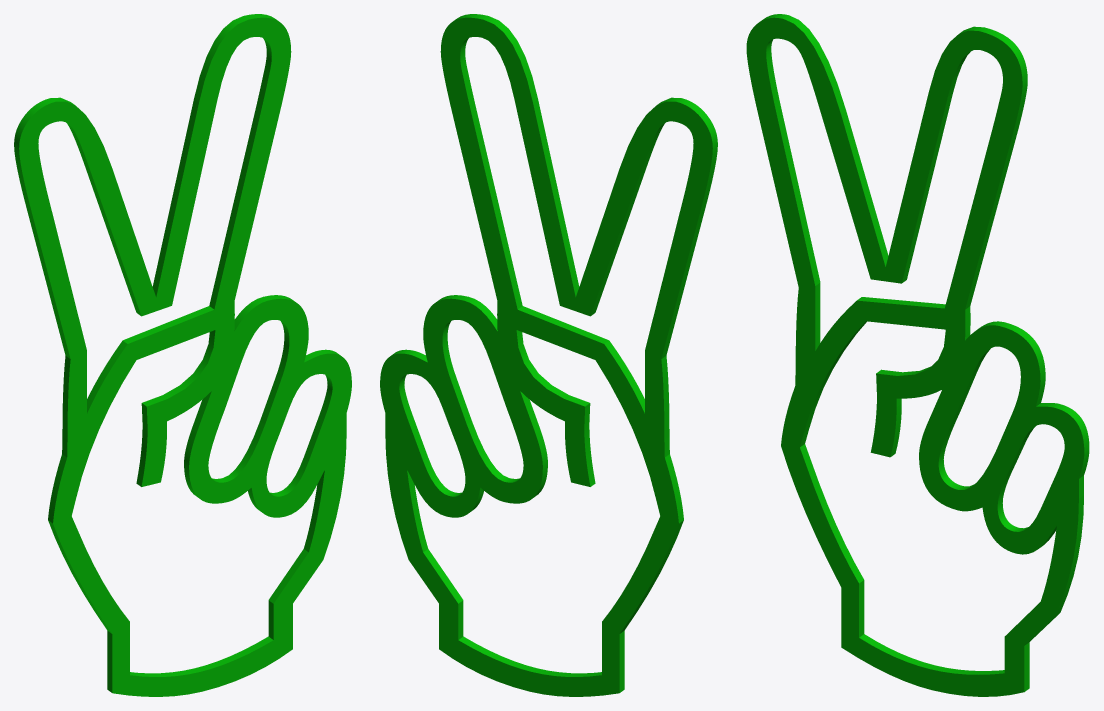
File: Victory.fbx
The picture shows the model from 3 angles, left to right: view 1: azimuth 30°, elevation 25°; view 2: azimuth 150°, elevation 25°; view 3: azimuth 330°, elevation 25°; orthographic projection.
Visible parts, largest first — view 1: TextPlus; view 2: TextPlus; view 3: TextPlus.
Part boxes in pixels (left/top/right/bottom): TextPlus: left=14, top=14, right=351, bottom=696; TextPlus: left=380, top=14, right=717, bottom=696; TextPlus: left=746, top=14, right=1089, bottom=696.
Size of the model in its own units: 3.78 by 7.17 by 0.1.
